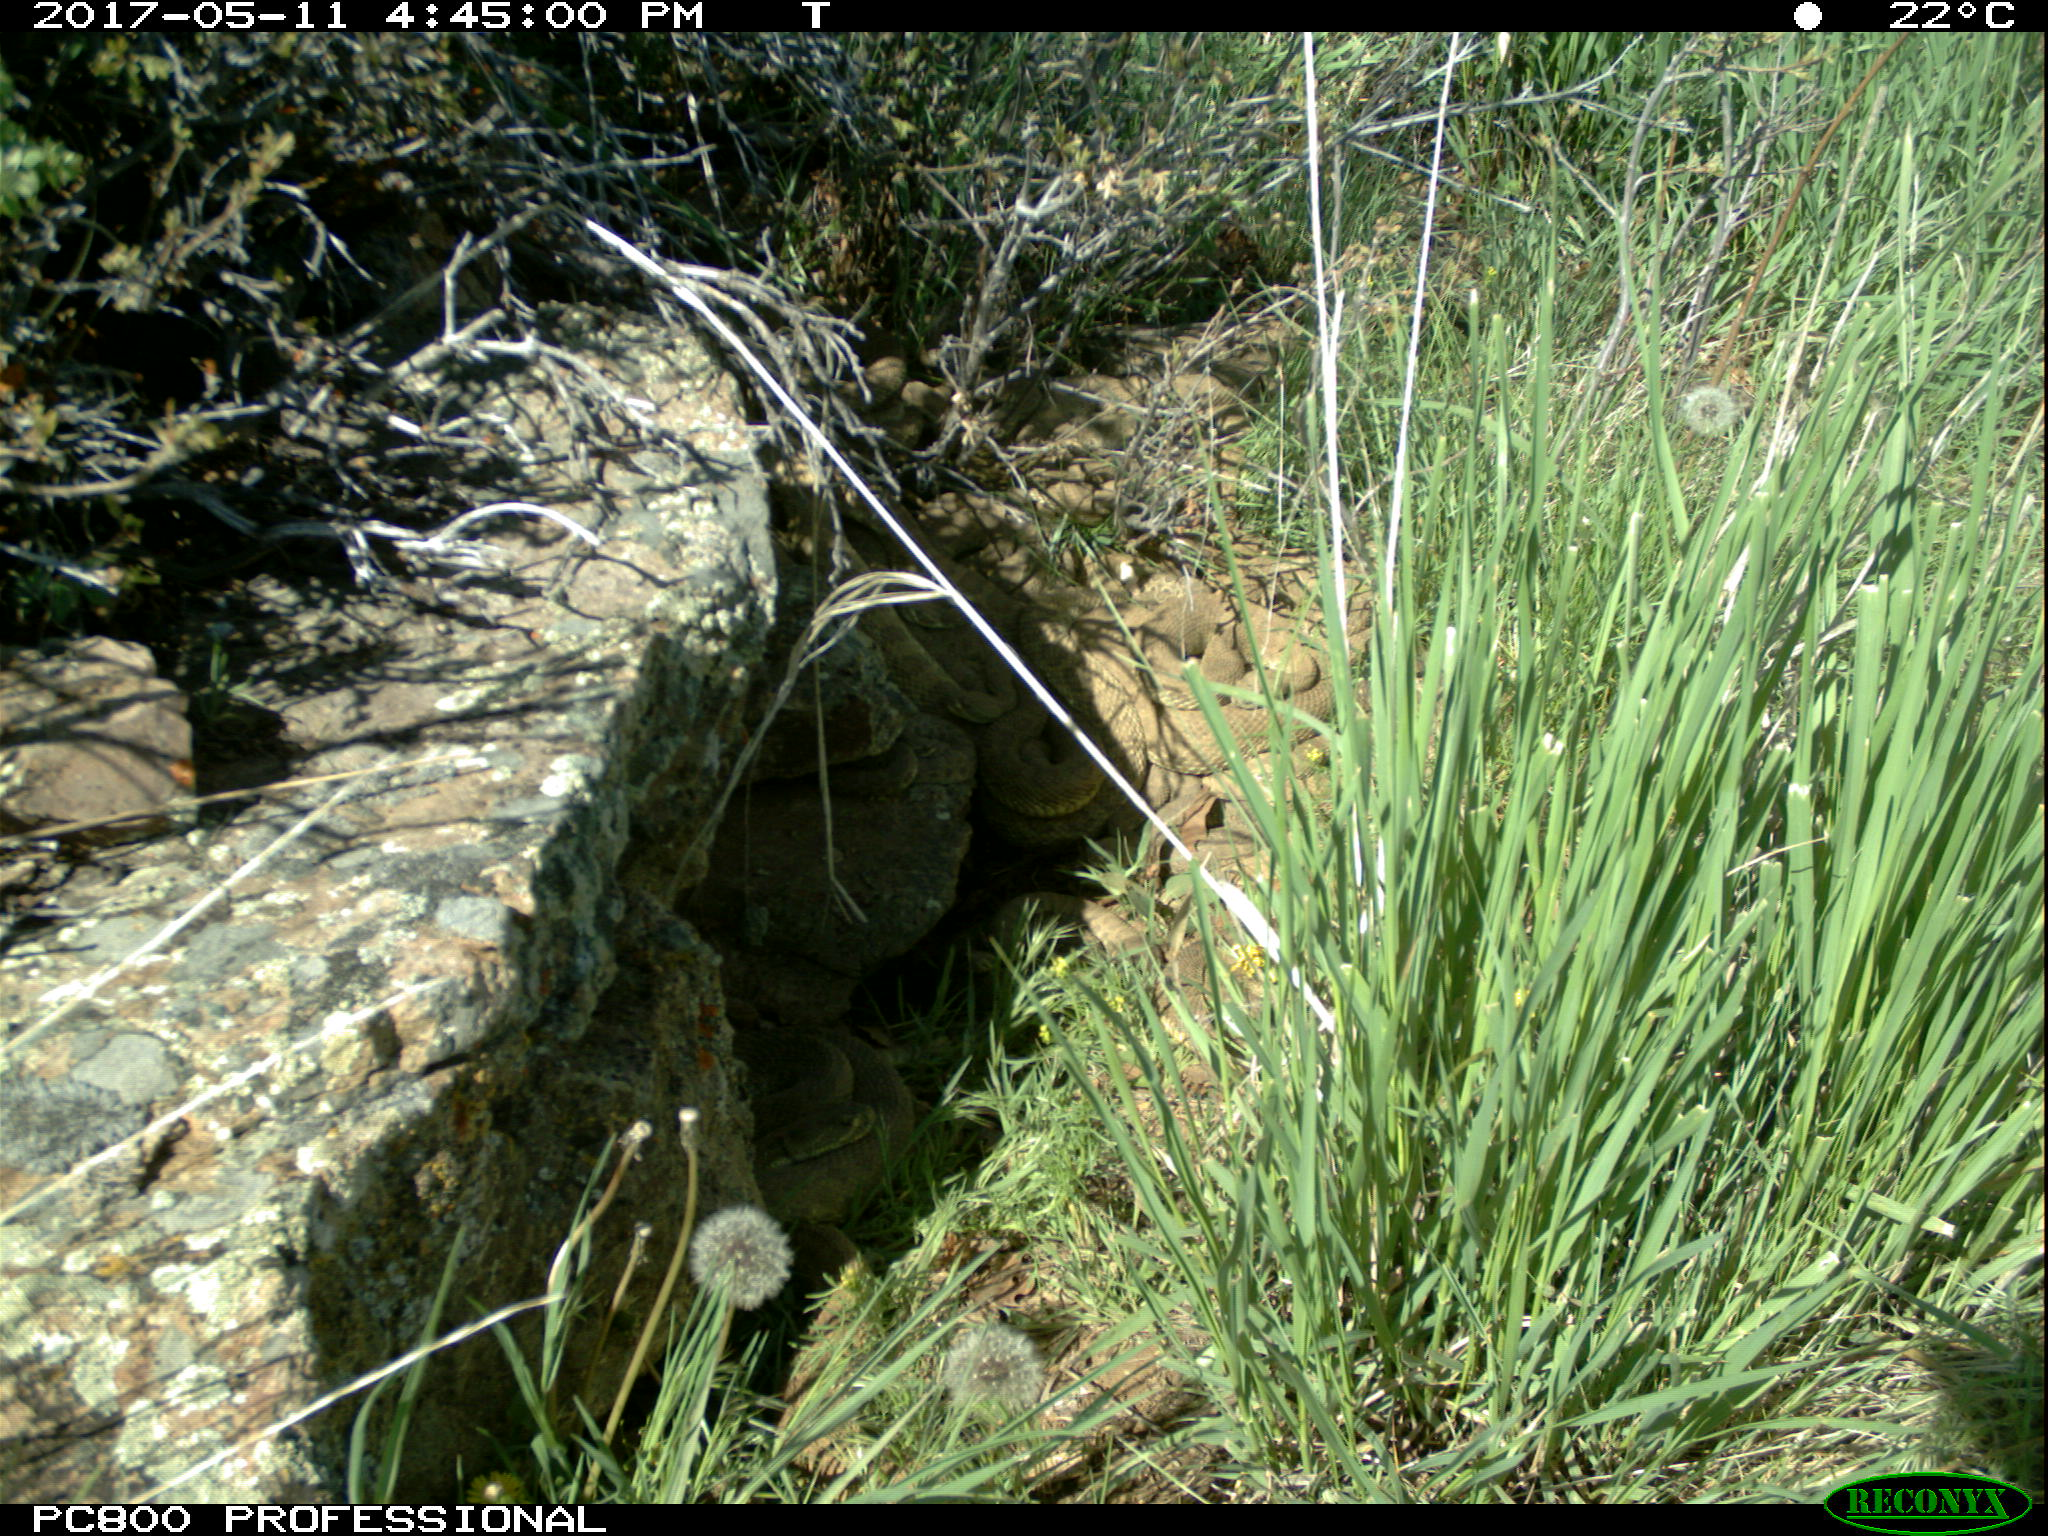snake: (982, 544, 1319, 705), (1037, 632, 1338, 783), (813, 515, 1018, 718), (1092, 641, 1234, 887), (747, 1029, 914, 1231), (763, 1231, 895, 1483), (964, 713, 1113, 841), (821, 353, 977, 439)
